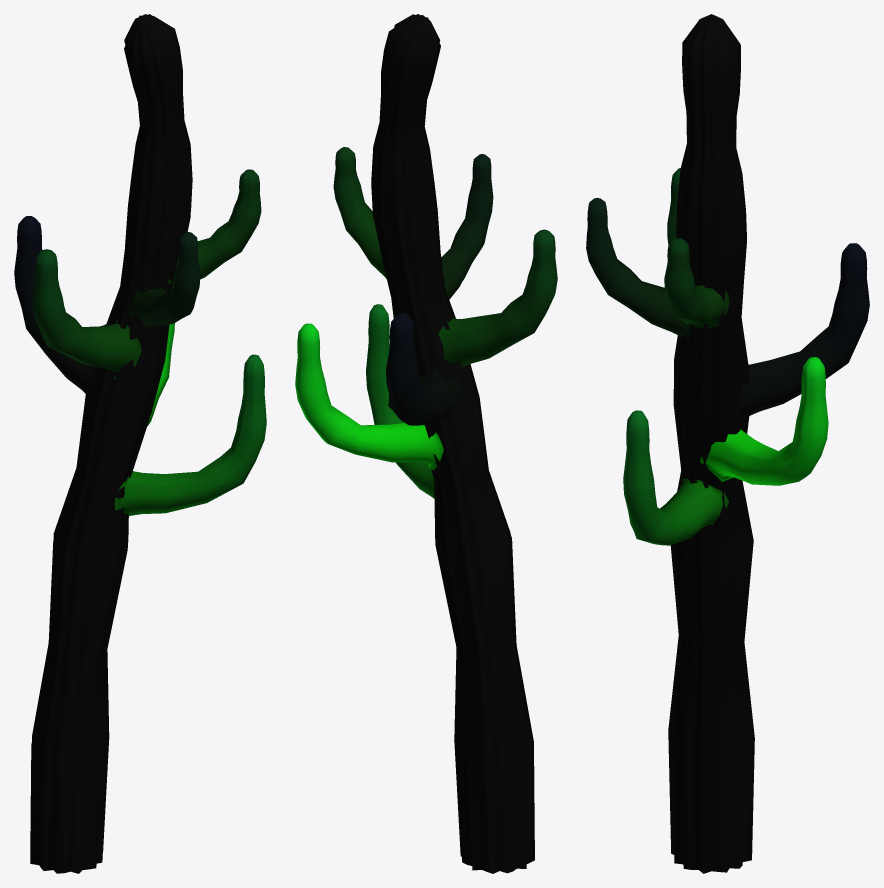
File: SM_Cactus_03.fbx
3 renders of one model, left to right at view 1: azimuth 30°, elevation 25°; view 2: azimuth 150°, elevation 25°; view 3: azimuth 270°, elevation 25°, orthographic. The views are drawn at different scales.
Visible parts, largest first — view 1: SM_Cactus_02; view 2: SM_Cactus_02; view 3: SM_Cactus_02.
Part boxes in pixels (x1,y1,x2,y2): SM_Cactus_02: (14,14,266,873); SM_Cactus_02: (295,14,557,873); SM_Cactus_02: (586,14,869,873).
Size of the model in its own units: 64.02 by 226 by 65.83.
